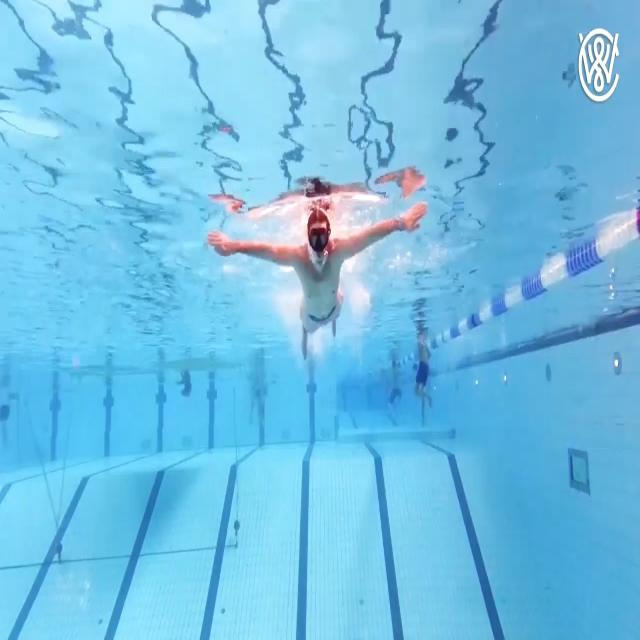Swimming: (208, 203, 428, 357)
